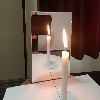fire: (62, 28, 68, 51)
